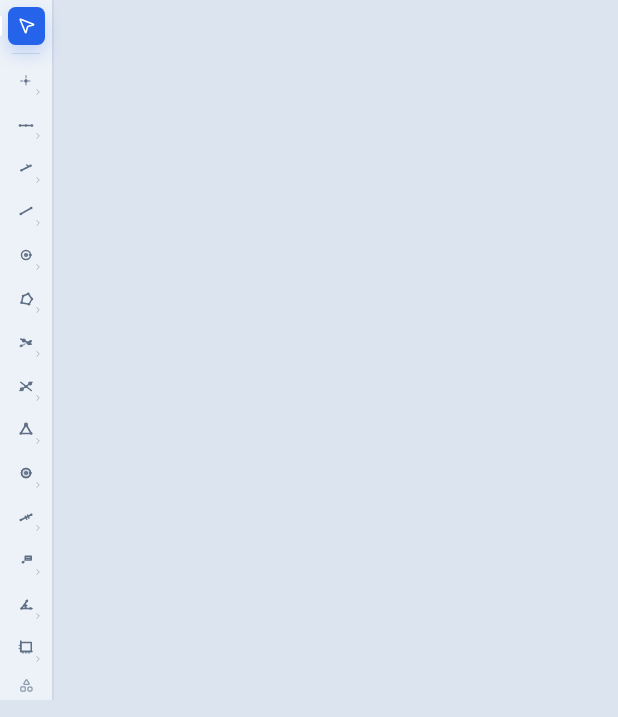
Test case: Toolbar groups › localizes toolbar groups and tool labels in French
The width and height of the screenshot is (618, 717).
Click the button named "Outils : Points". click: (26,81)
box: [8,62,45,99]
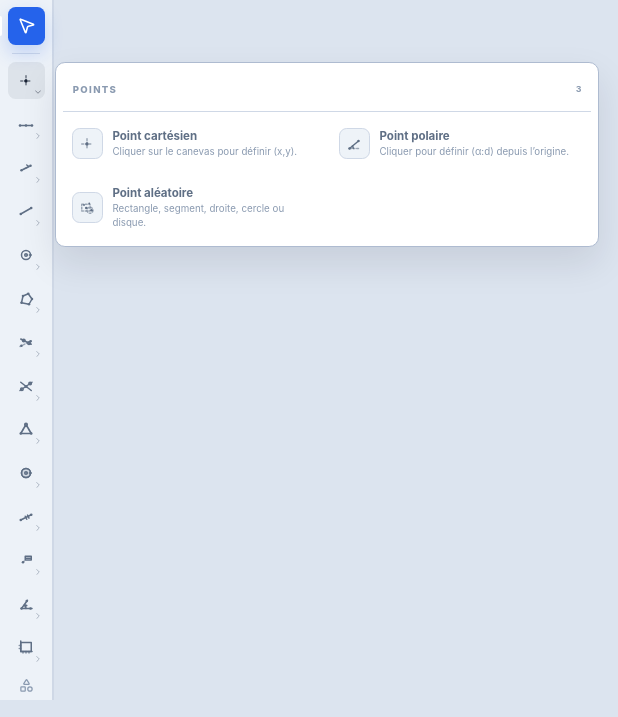
Check: the menu "Points" is shown, box [55,62,599,247]
Check: the menu item "Point cartésien Cliquer sur le canevas pour définir (x,y)." is shown, box [63,117,324,170]
